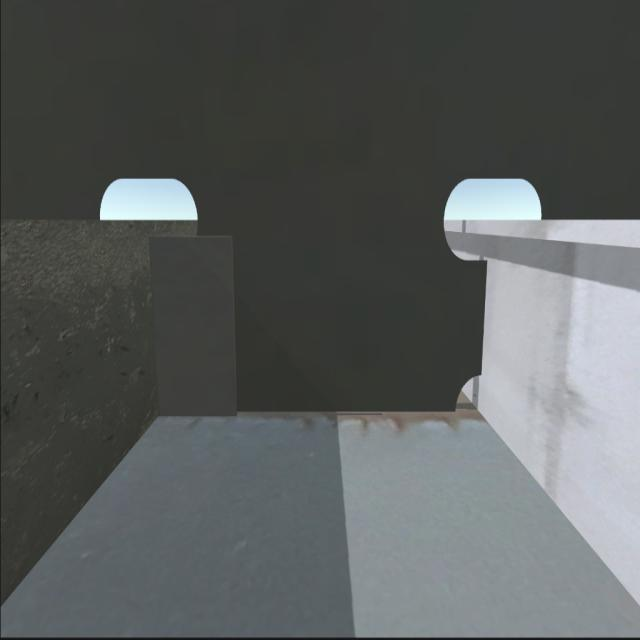fillet_hole: (452, 367, 486, 414)
fillet_yong_jeop_jang: (156, 404, 454, 418)
longi_yong_jeop_jang: (141, 240, 164, 420), (470, 241, 497, 374)
plate_CP01: (154, 233, 239, 414)
